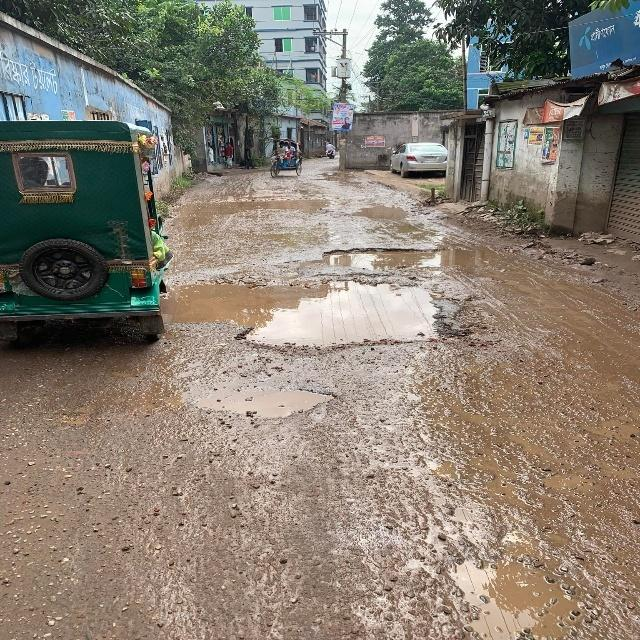Pothole: (194, 266, 446, 348), (458, 552, 550, 634), (333, 238, 488, 274)
Surface Erosion: (176, 171, 624, 634)
